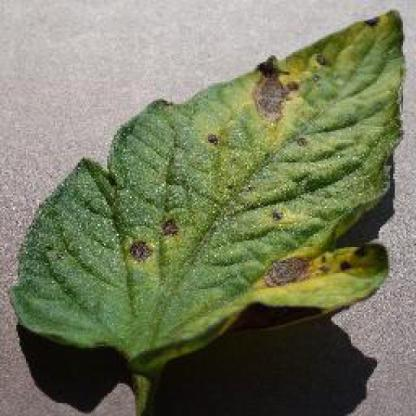Tomato_Blight: (12, 6, 404, 354)
